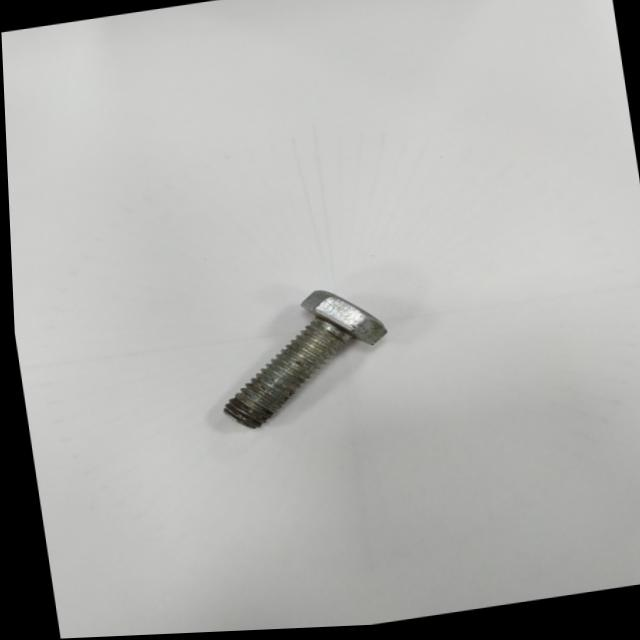Bolt: (220, 294, 382, 430)
